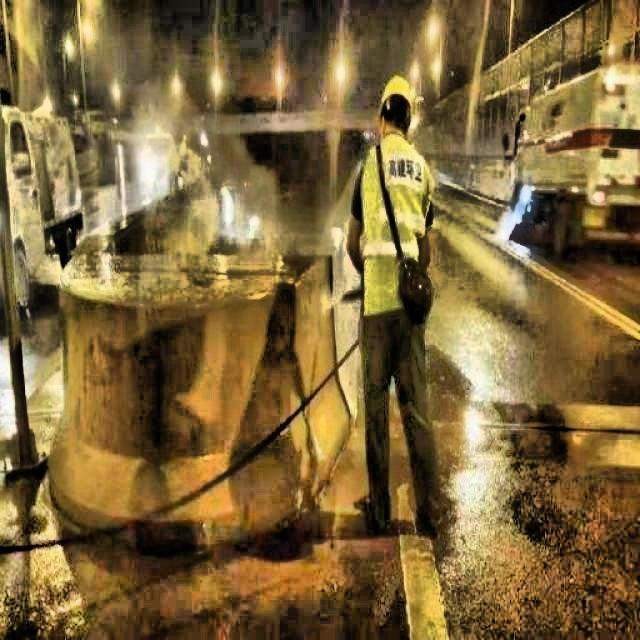safety_jacket: (358, 137, 434, 316)
